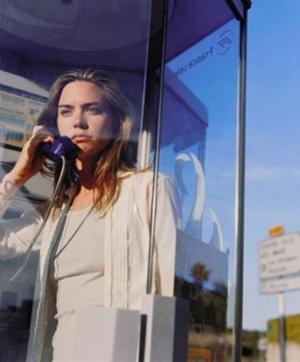person: (2, 70, 182, 362)
